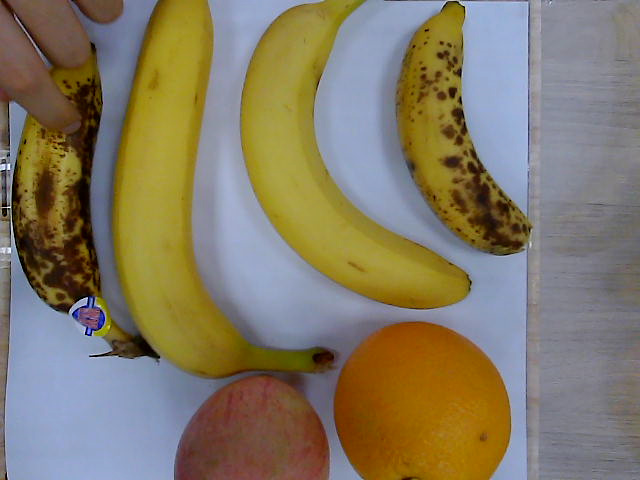fresh_apple: (173, 376, 330, 480)
fresh_banana: (241, 2, 473, 308), (112, 1, 249, 379)
fresh_orange: (332, 323, 514, 480)
rotten_banana: (13, 47, 160, 361), (394, 2, 536, 257)
